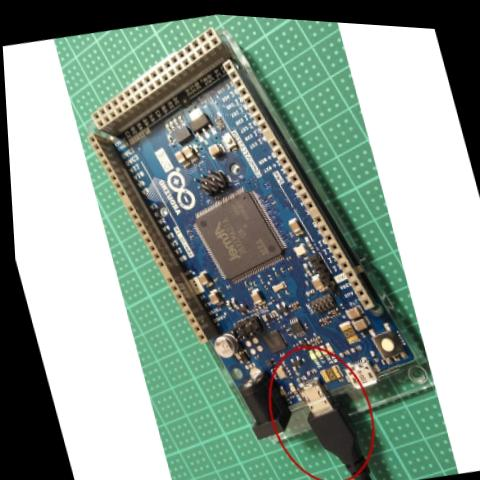Arduino-Due: (56, 3, 439, 469)
